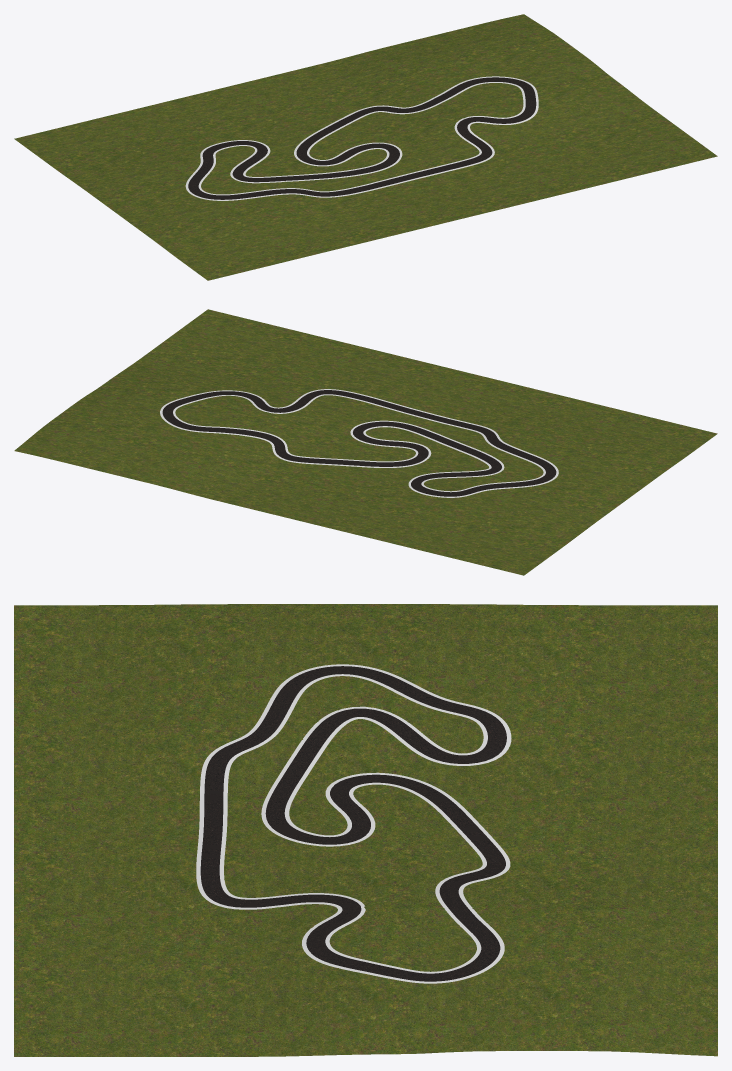
File: intento.fbx
The picture shows the model from 3 angles, top to bottom: view 1: azimuth 30°, elevation 25°; view 2: azimuth 150°, elevation 25°; view 3: azimuth 270°, elevation 25°; orthographic projection. The views are drawn at different scales.
Visible parts, largest first — view 1: Plane.001, Plane; view 2: Plane.001, Plane; view 3: Plane.001, Plane.
Boxes of the visible parts, <box> form: Plane.001: <box>14,14,717,280</box>; Plane: <box>185,76,538,200</box>; Plane.001: <box>14,309,717,575</box>; Plane: <box>160,389,558,497</box>; Plane.001: <box>14,604,717,1056</box>; Plane: <box>196,664,511,983</box>.
Size of the model in its own units: 38336 by 449 by 25252.
3 materials, 2 textured.
